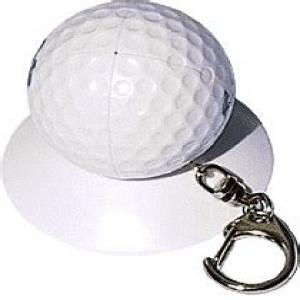Golf: (24, 0, 232, 178)
